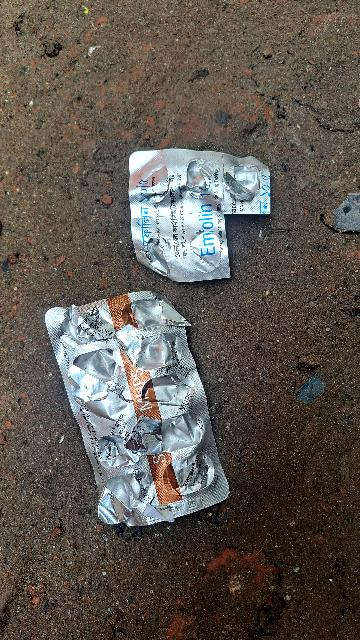medicine: (37, 268, 238, 544), (118, 144, 270, 286)
